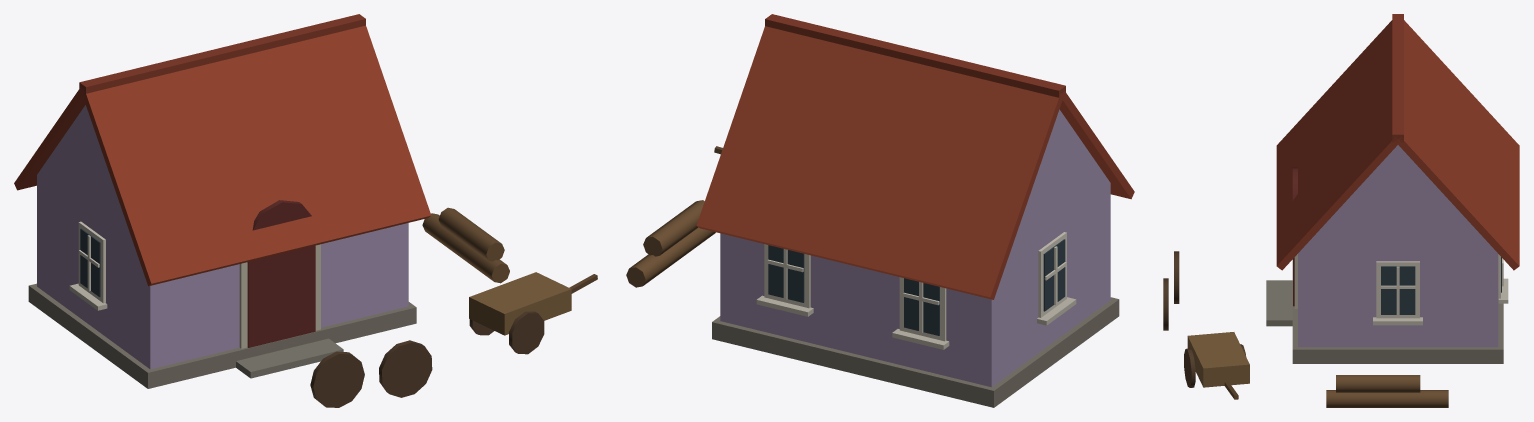
The model's file is procedural_cartwright@4.glb.
3 renders of one model, left to right at view 1: azimuth 30°, elevation 25°; view 2: azimuth 150°, elevation 25°; view 3: azimuth 270°, elevation 25°, orthographic. The views are drawn at different scales.
Parts seen in each view (by area): view 1: part_0; view 2: part_0; view 3: part_0.
Boxes of the visible parts, <box> form: part_0: <box>14,14,597,407</box>; part_0: <box>626,14,1134,407</box>; part_0: <box>1163,14,1519,407</box>.
Size of the model in its own units: 8.18 by 4.85 by 6.75.
